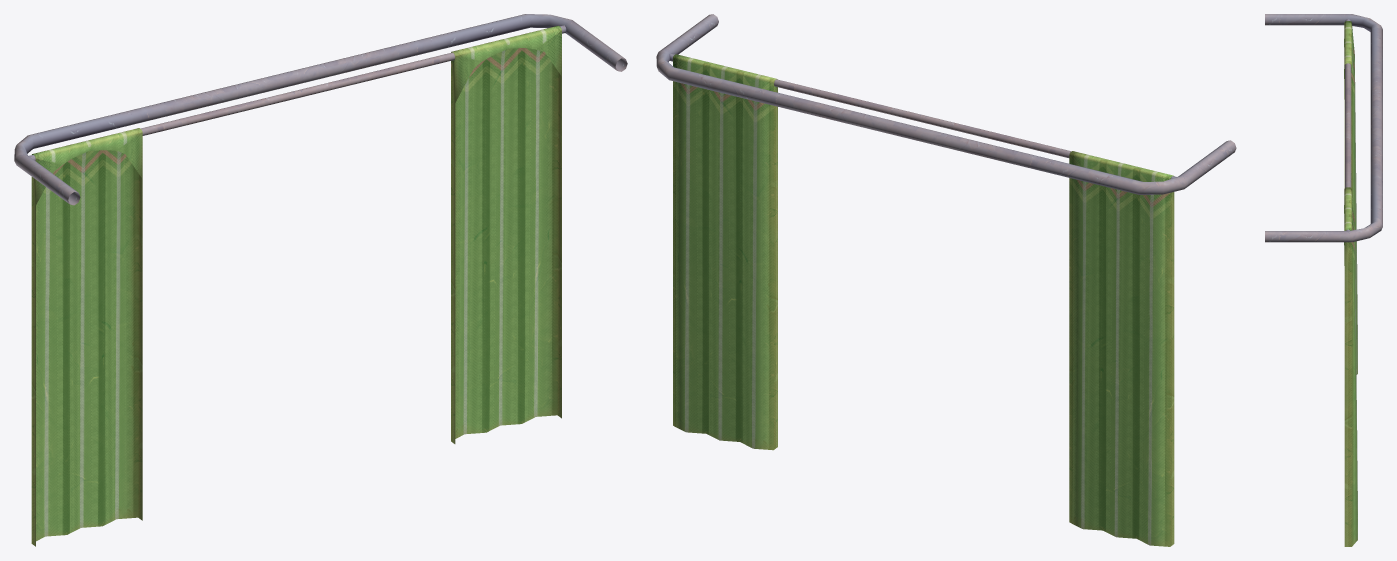
File: Curtain.obj
3 renders of one model, left to right at view 1: azimuth 30°, elevation 25°; view 2: azimuth 150°, elevation 25°; view 3: azimuth 270°, elevation 25°, orthographic. The views are drawn at different scales.
Visible parts, largest first — view 1: Curtain; view 2: Curtain; view 3: Curtain.
Boxes of the visible parts, x1=… form: Curtain: x1=14, y1=14, x2=627, y2=546; Curtain: x1=656, y1=14, x2=1236, y2=546; Curtain: x1=1265, y1=14, x2=1382, y2=546.
Bounding box in the file's own units: 15.75 × 10.58 × 3.54.
